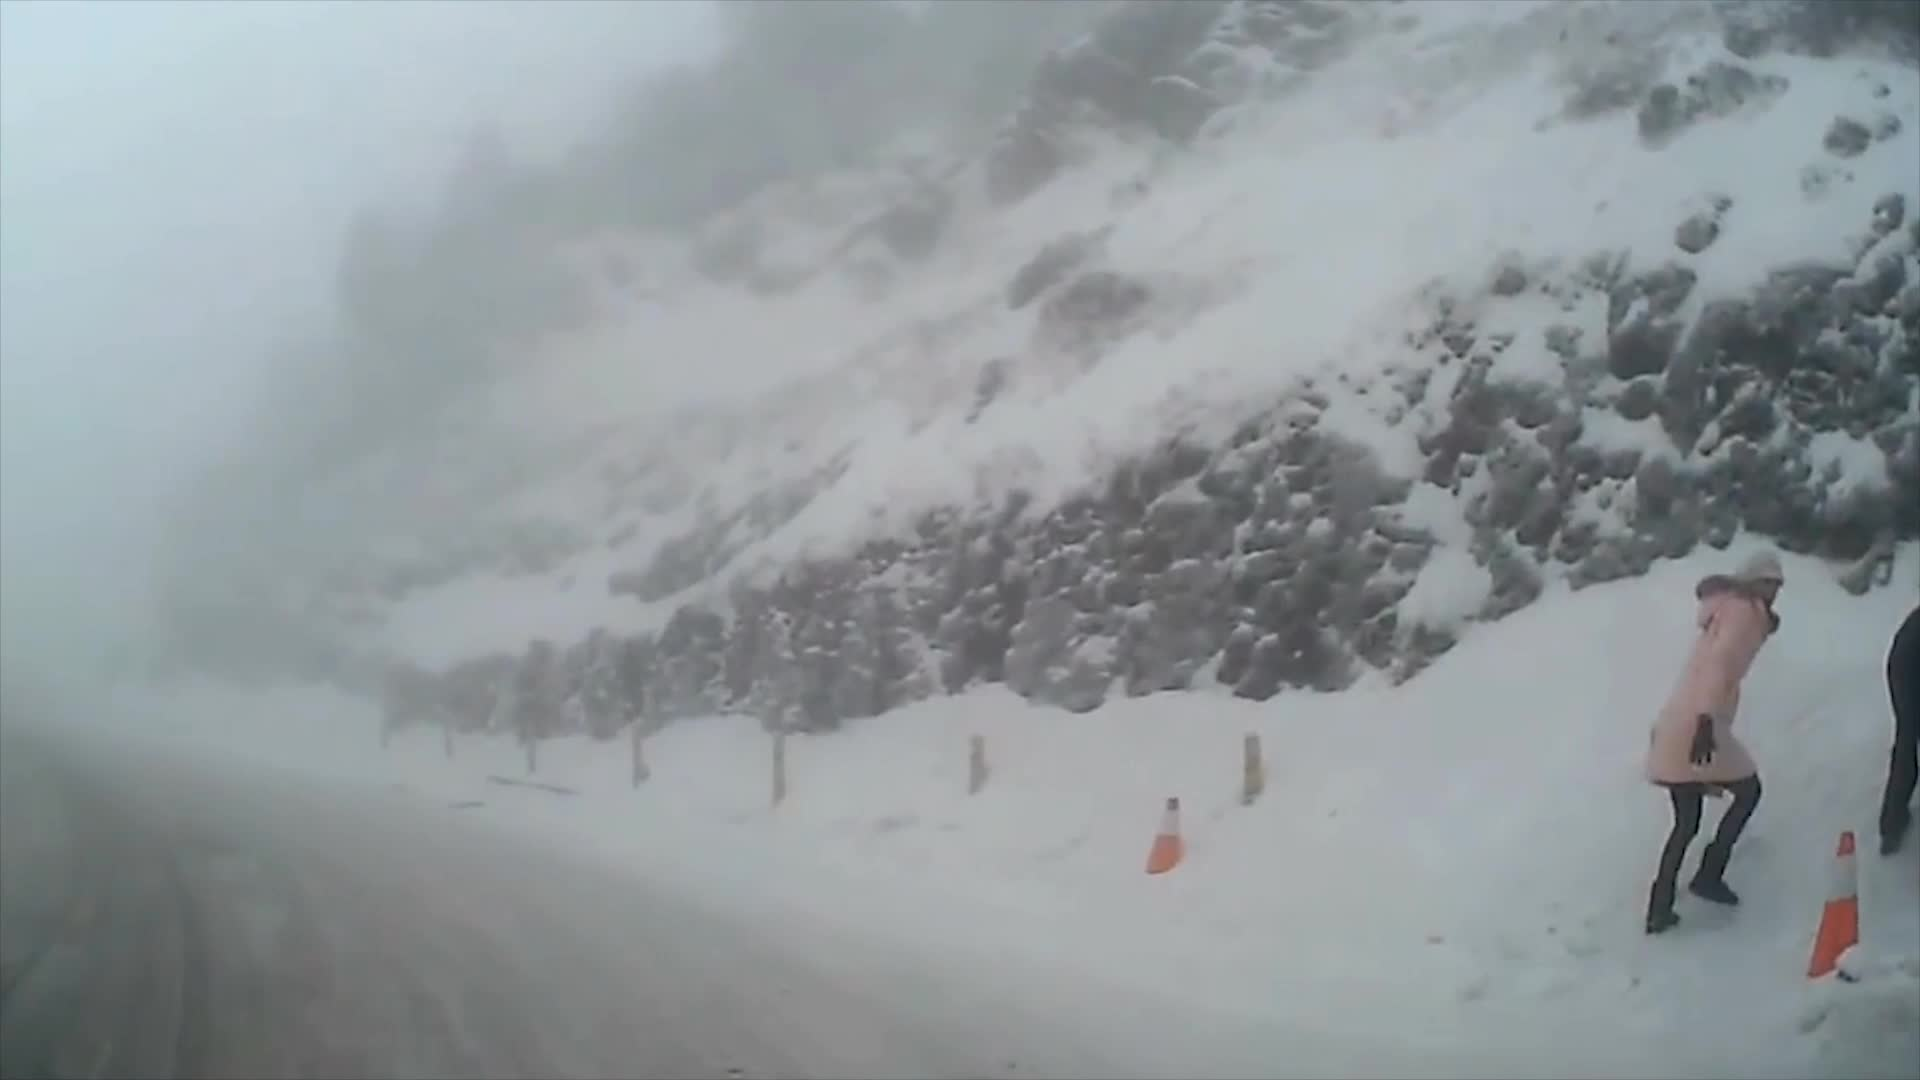pedestrian: (1646, 551, 1797, 940)
